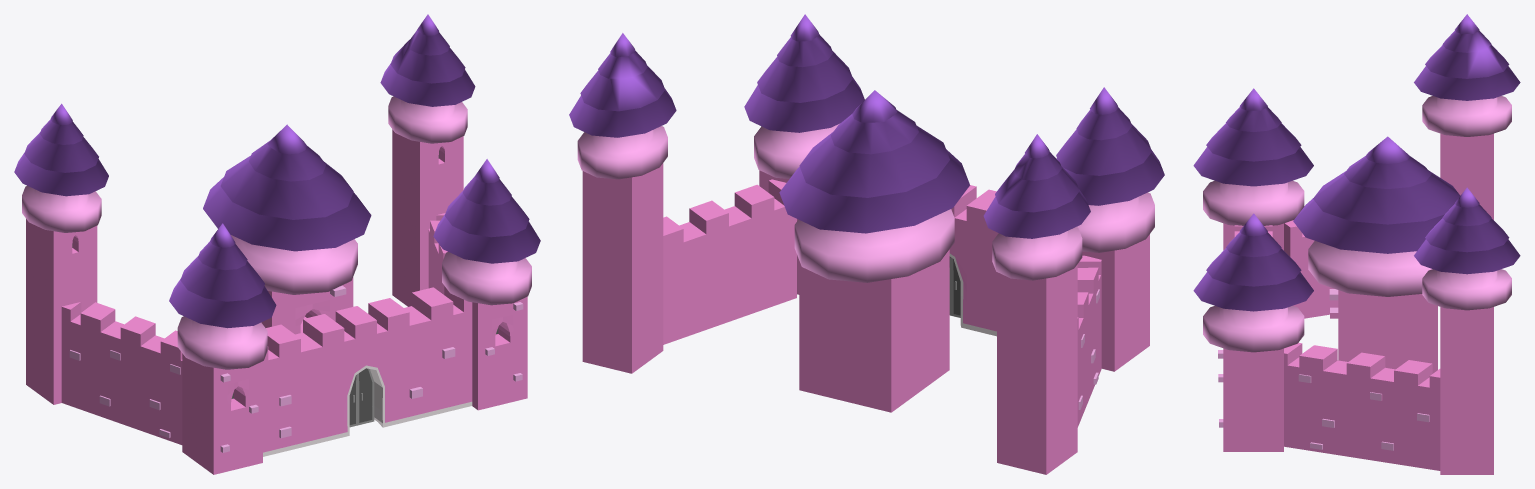
File: castle.fbx
3 views of the same model, side by side, from view 1: azimuth 30°, elevation 25°; view 2: azimuth 150°, elevation 25°; view 3: azimuth 270°, elevation 25° (orthographic). The views are drawn at different scales.
Parts seen in each view (by area): view 1: Cube.002; view 2: Cube.002; view 3: Cube.002.
Part boxes in pixels (x1,y1,x2,y2): Cube.002: (14,14,540,474); Cube.002: (569,14,1164,474); Cube.002: (1193,14,1520,474).
Size of the model in its own units: 2.33 by 1.47 by 1.53.
